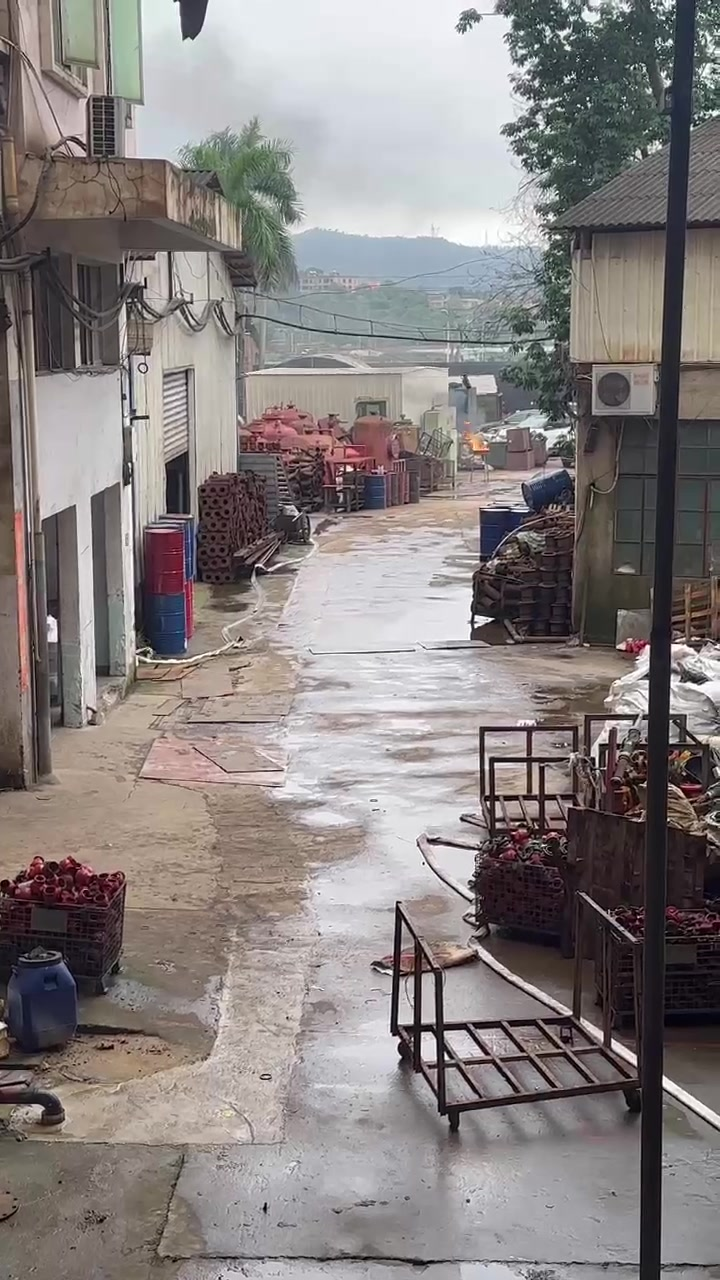fire: (464, 429, 489, 450)
